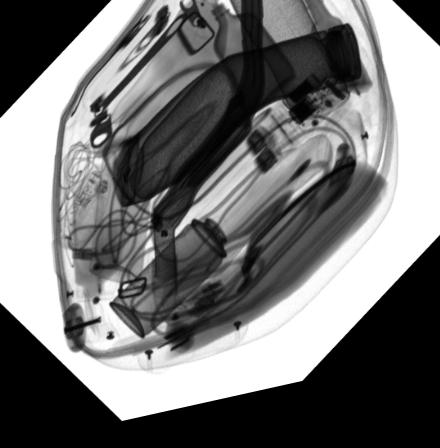Sprayer: (108, 208, 246, 345)
